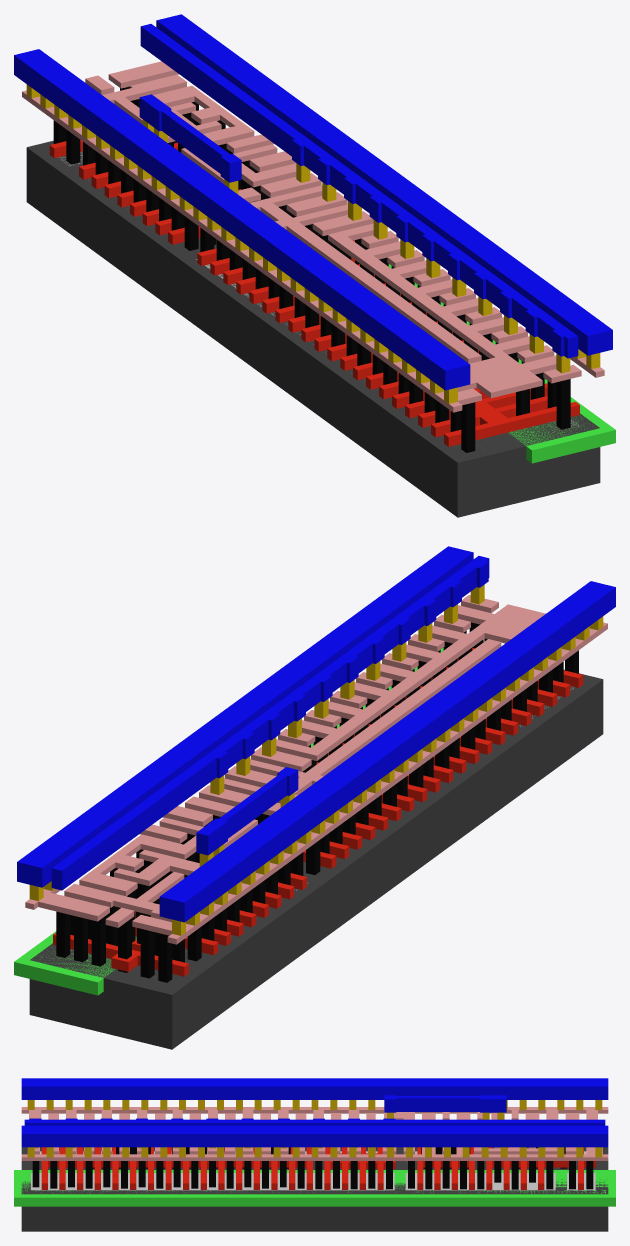
File: sky130_fd_sc_hd__lpflow_isobufsrckapwr_16.obj
The picture shows the model from 3 angles, top to bottom: view 1: azimuth 30°, elevation 25°; view 2: azimuth 150°, elevation 25°; view 3: azimuth 270°, elevation 25°; orthographic projection. The views are drawn at different scales.
Visible parts, largest first — view 1: metal1, subs, li, licon, poly, mcon, nwell; view 2: metal1, subs, li, licon, poly, mcon, nwell; view 3: metal1, subs, li, nwell, poly, licon, mcon, tap.
Part boxes in pixels (x1=…): metal1: x1=14, y1=14, x2=612, y2=390; subs: x1=26, y1=140, x2=600, y2=517; li: x1=22, y1=61, x2=604, y2=412; licon: x1=53, y1=86, x2=570, y2=452; poly: x1=49, y1=140, x2=579, y2=446; mcon: x1=26, y1=84, x2=600, y2=403; nwell: x1=388, y1=264, x2=615, y2=463; metal1: x1=17, y1=546, x2=615, y2=922; subs: x1=29, y1=669, x2=603, y2=1049; li: x1=25, y1=595, x2=607, y2=944; licon: x1=56, y1=622, x2=578, y2=982; poly: x1=53, y1=648, x2=583, y2=976; mcon: x1=29, y1=584, x2=603, y2=935; nwell: x1=14, y1=648, x2=443, y2=995; metal1: x1=21, y1=1078, x2=608, y2=1147; subs: x1=21, y1=1147, x2=608, y2=1231; li: x1=21, y1=1107, x2=608, y2=1160; nwell: x1=14, y1=1170, x2=615, y2=1206; poly: x1=41, y1=1147, x2=596, y2=1189; licon: x1=32, y1=1147, x2=593, y2=1189; mcon: x1=27, y1=1100, x2=602, y2=1157; tap: x1=31, y1=1173, x2=595, y2=1190.
Bounding box in the file's own units: 3.2 × 2.74 × 14.64.
